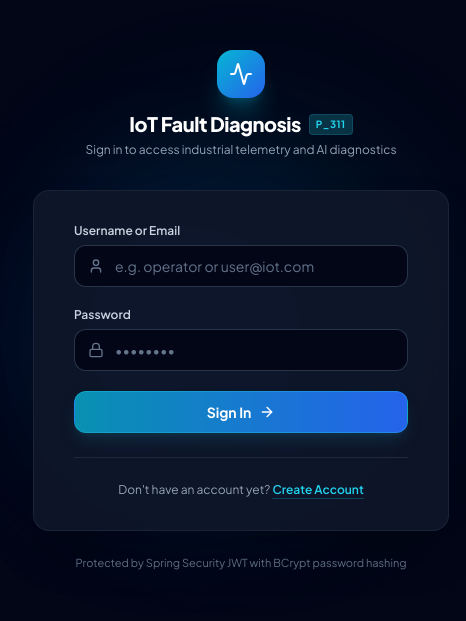
Test: Frontend Authentication Suite (P19) › Login Page › displays error message on invalid credentials
Type "wronguser" into the field labelled "Username or Email" at (241, 266), box [74, 245, 408, 287]
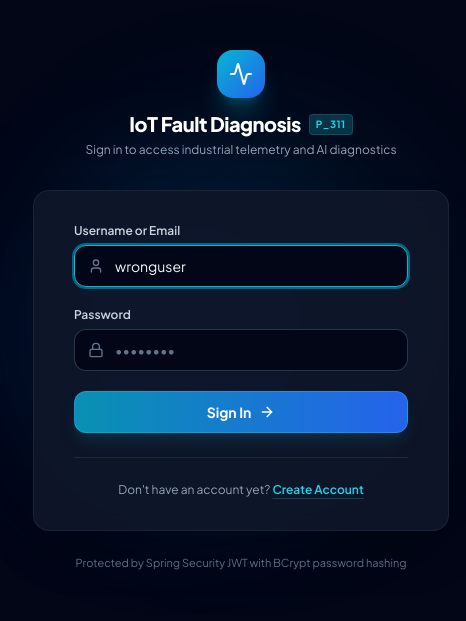
Type "badpass" into the password field labelled "Password" at (241, 350), box [74, 329, 408, 371]
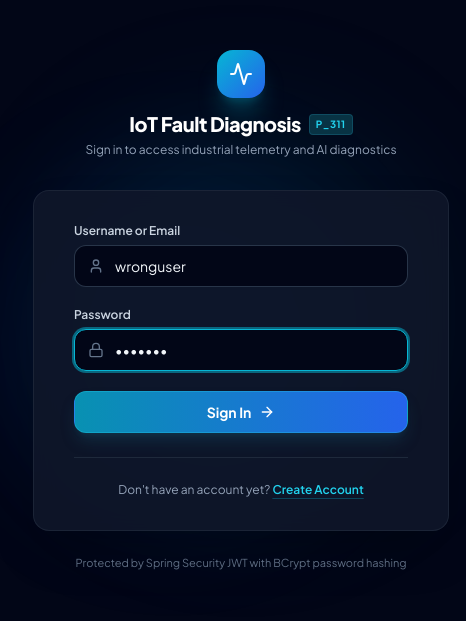
Click the button "Sign In" at (241, 412), box [74, 391, 408, 433]
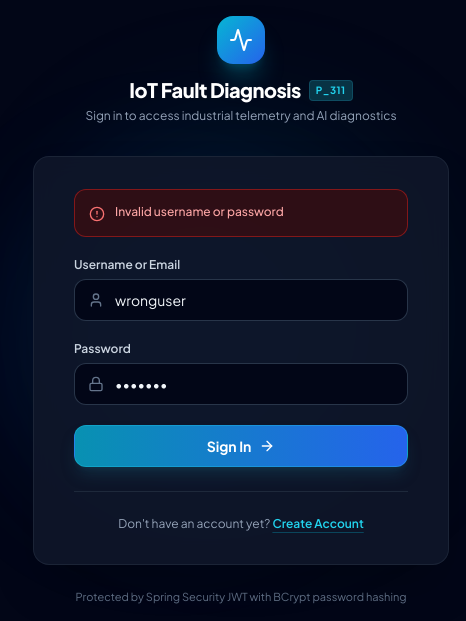
Check: the text "Invalid username or password" is shown, box [115, 204, 284, 220]
